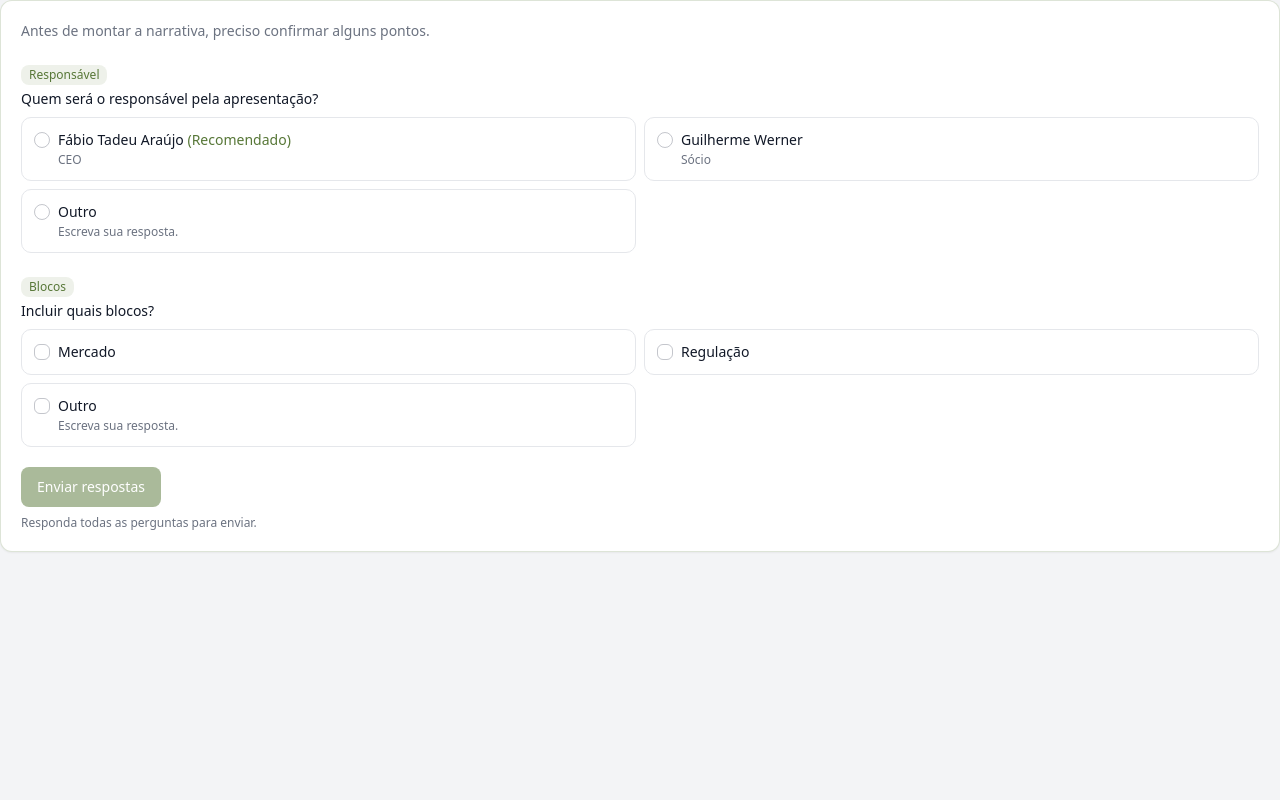
Test: CardPerguntas (§9) › mostra "(Recomendado)", libera o envio só com tudo respondido e envia no formato do serviço
Later steps or results of the test are not shown.
Expected: the text "(Recomendado)" is shown, top-left (184, 130), bottom-right (291, 149)
Expected: the button "Enviar respostas" is disabled, top-left (21, 467), bottom-right (161, 507)
Click the button "Guilherme Werner Sócio" at (742, 140), box top-left (644, 117), bottom-right (1259, 181)
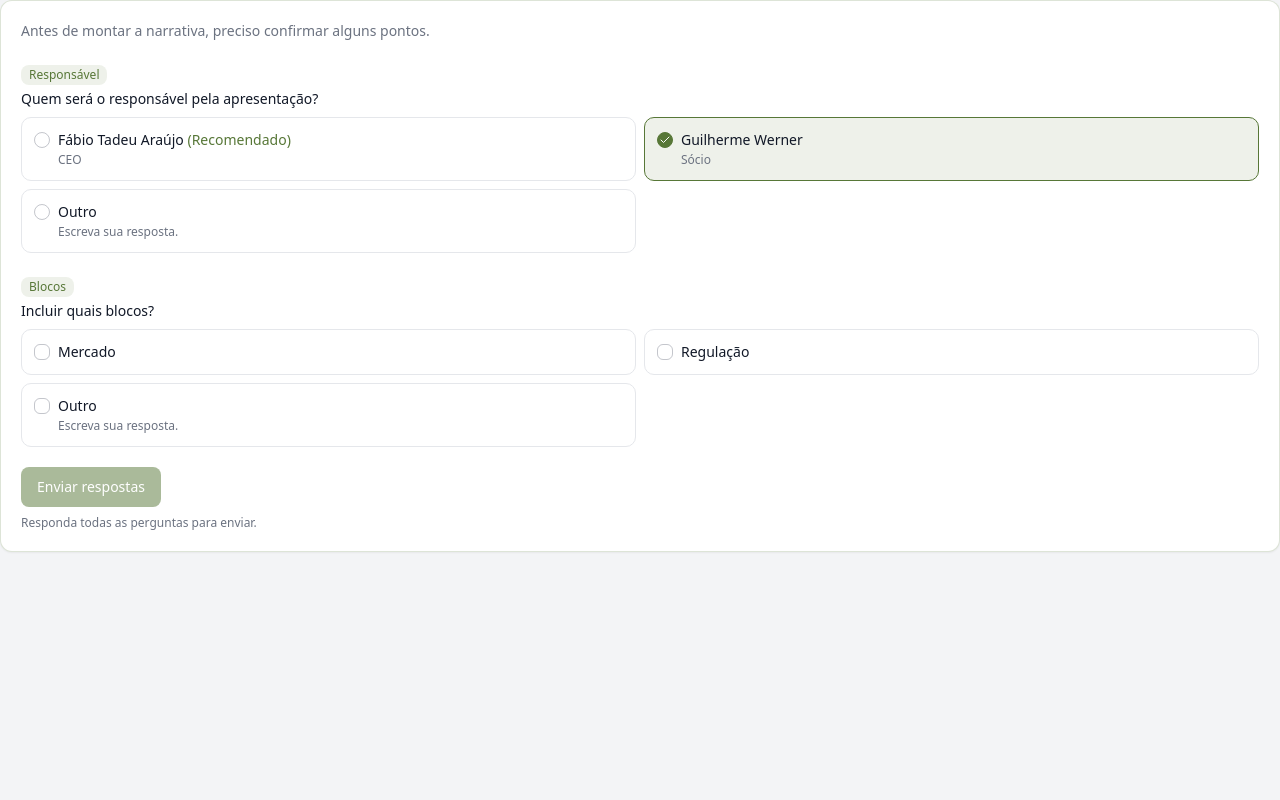
Click the button "Fábio Tadeu Araújo (Recomendado) CEO" at (121, 140), box top-left (21, 117), bottom-right (636, 181)
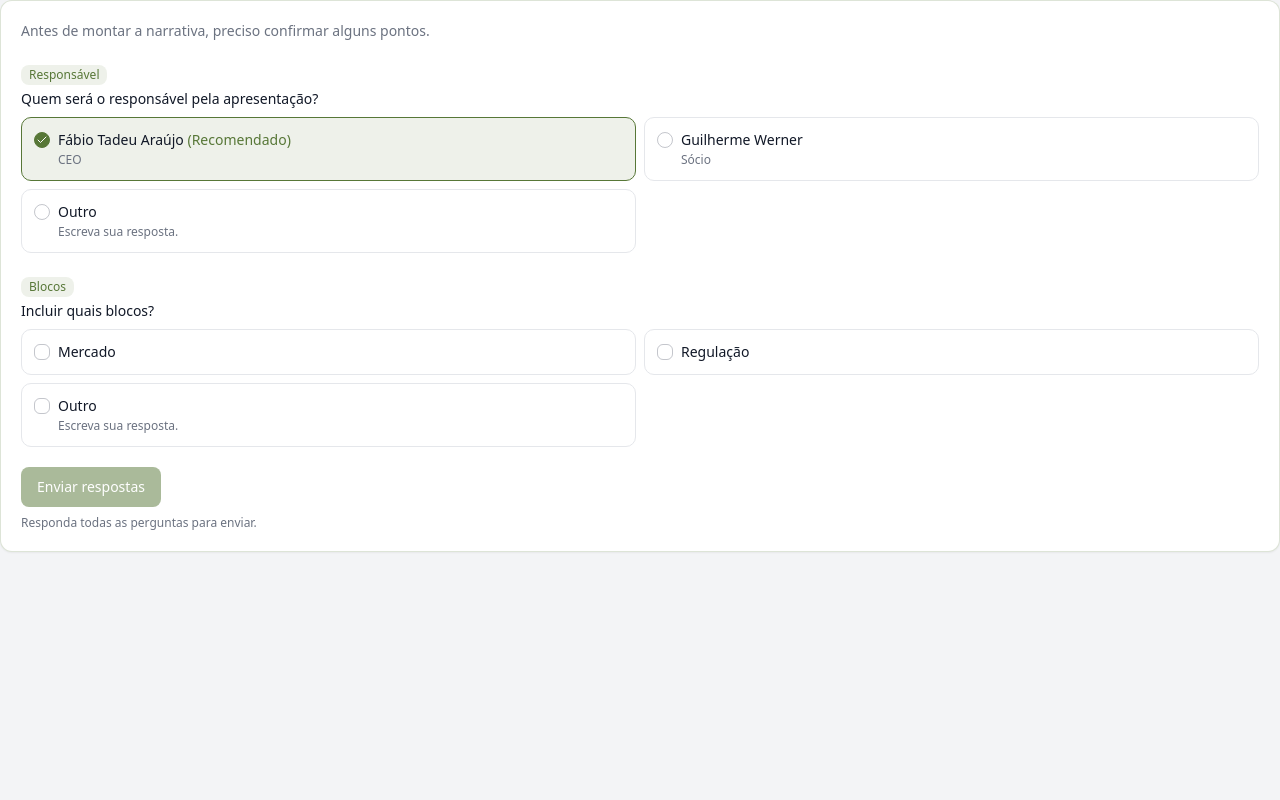
Expected: the button "Enviar respostas" is disabled, top-left (21, 467), bottom-right (161, 507)
Now the button "Fábio Tadeu Araújo (Recomendado) CEO" is pressed, box top-left (21, 117), bottom-right (636, 181)
Now the button "Guilherme Werner Sócio" is not pressed, box top-left (644, 117), bottom-right (1259, 181)
Click the button "Mercado" at (87, 352), box top-left (21, 329), bottom-right (636, 375)
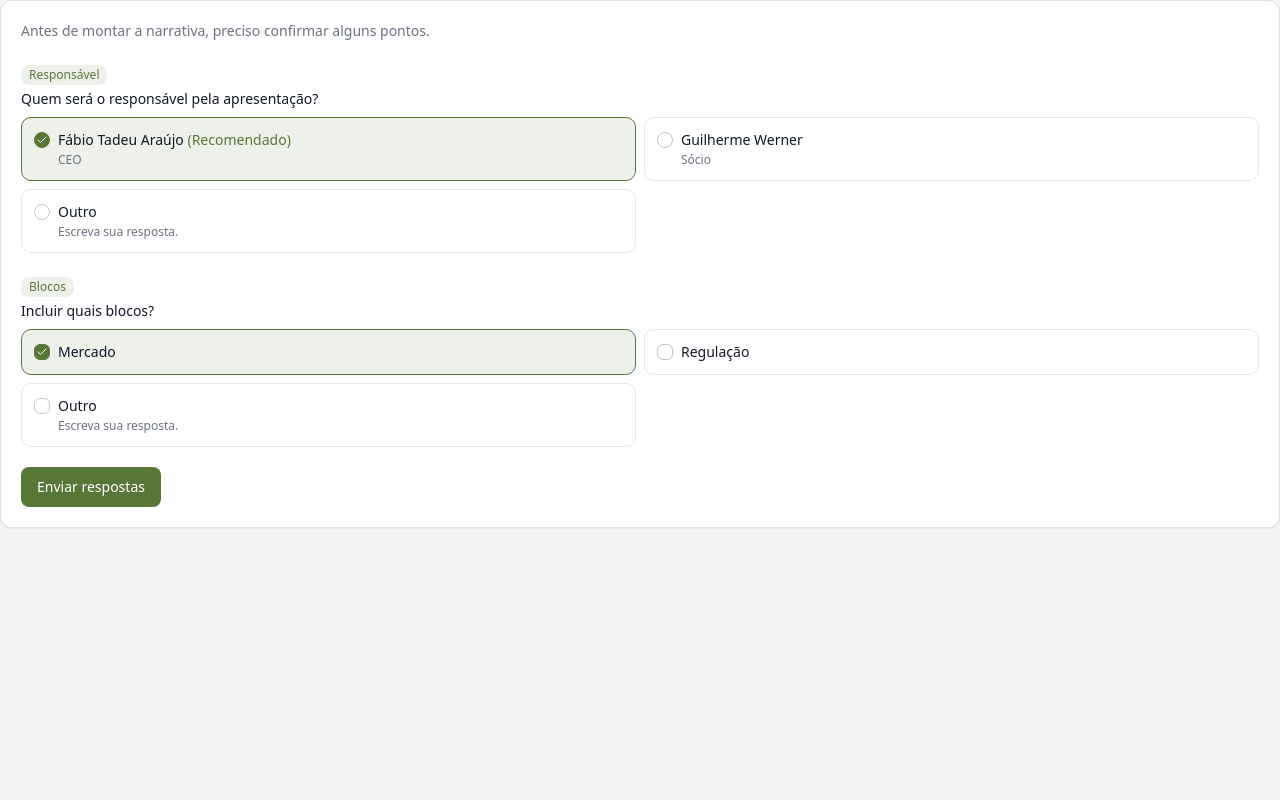
Click the button "Outro Escreva sua resposta." below "Incluir quais blocos?" at (77, 406), box top-left (21, 383), bottom-right (636, 447)
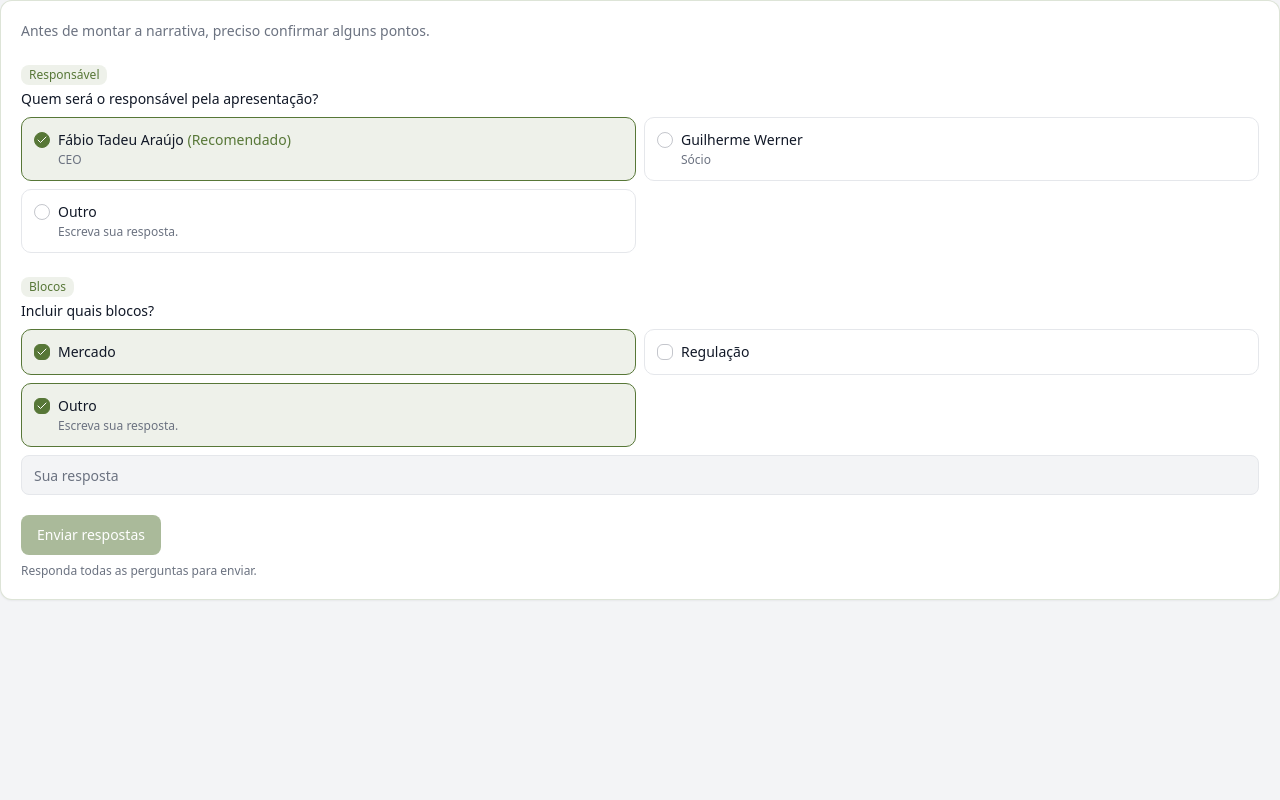
Now the button "Enviar respostas" is disabled, box top-left (21, 515), bottom-right (161, 555)
Type "Florianópolis" into the field named "Outra resposta para: Incluir quais blocos?" at (640, 475), box top-left (21, 455), bottom-right (1259, 495)
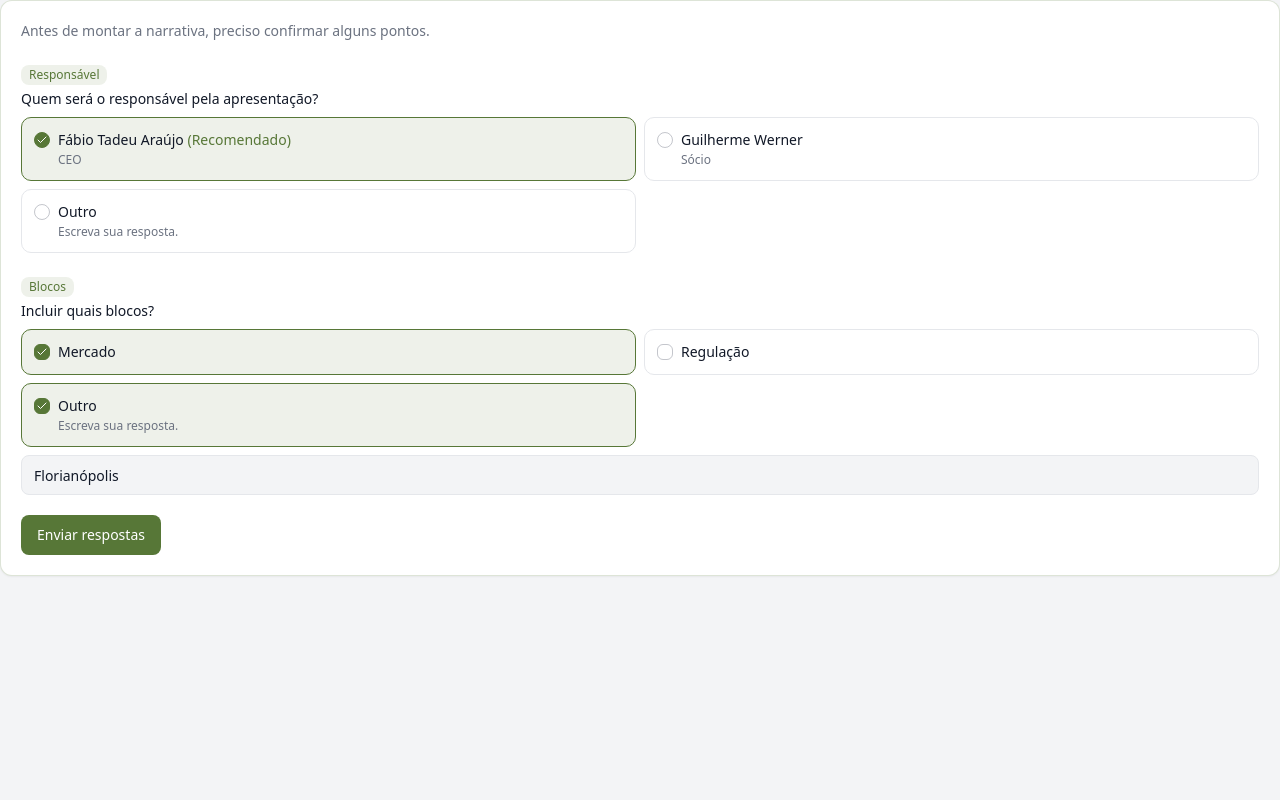
Now the button "Enviar respostas" is enabled, box top-left (21, 515), bottom-right (161, 555)
